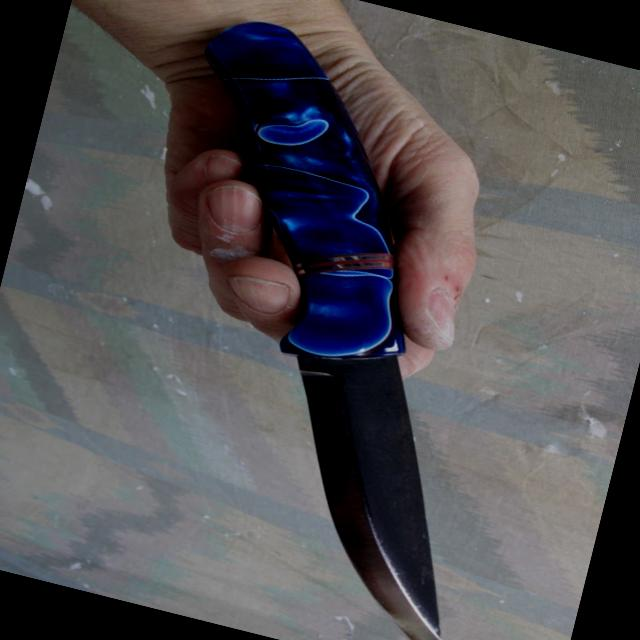knife: (92, 164, 556, 639)
